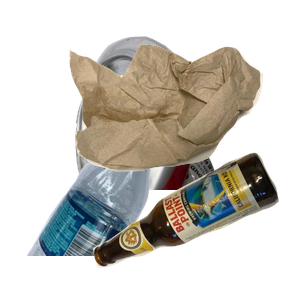glass: (91, 150, 300, 300)
metal: (73, 34, 285, 214)
plastic: (24, 120, 182, 300)
trash: (67, 42, 300, 206)
